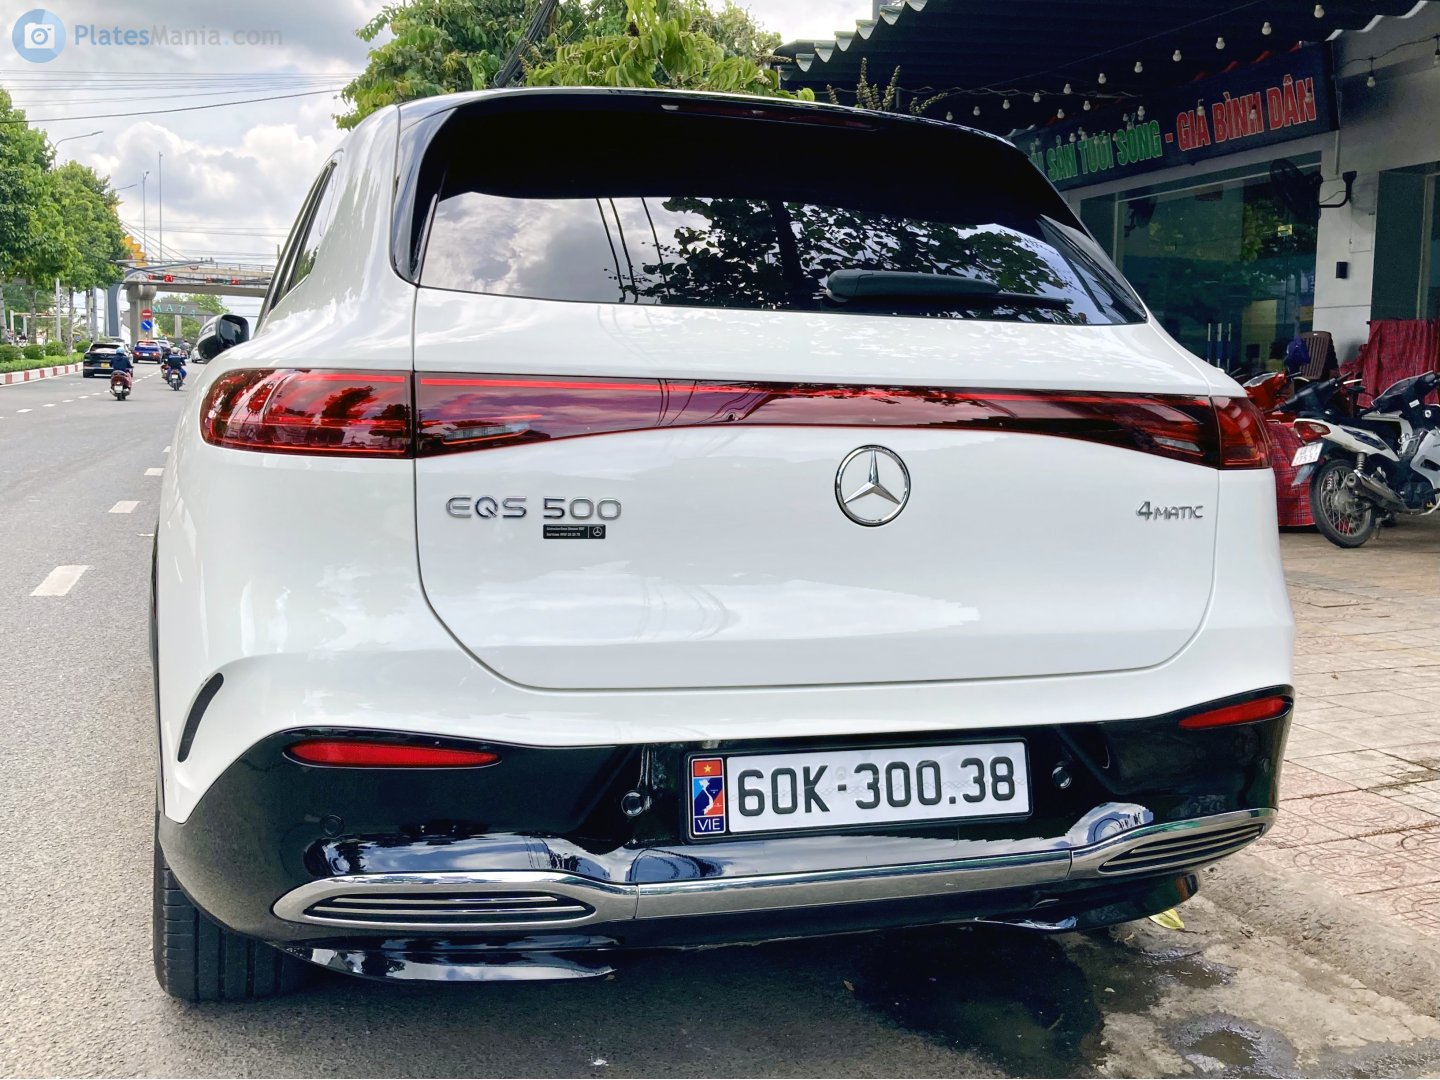bien_so: (688, 741, 1030, 840)
